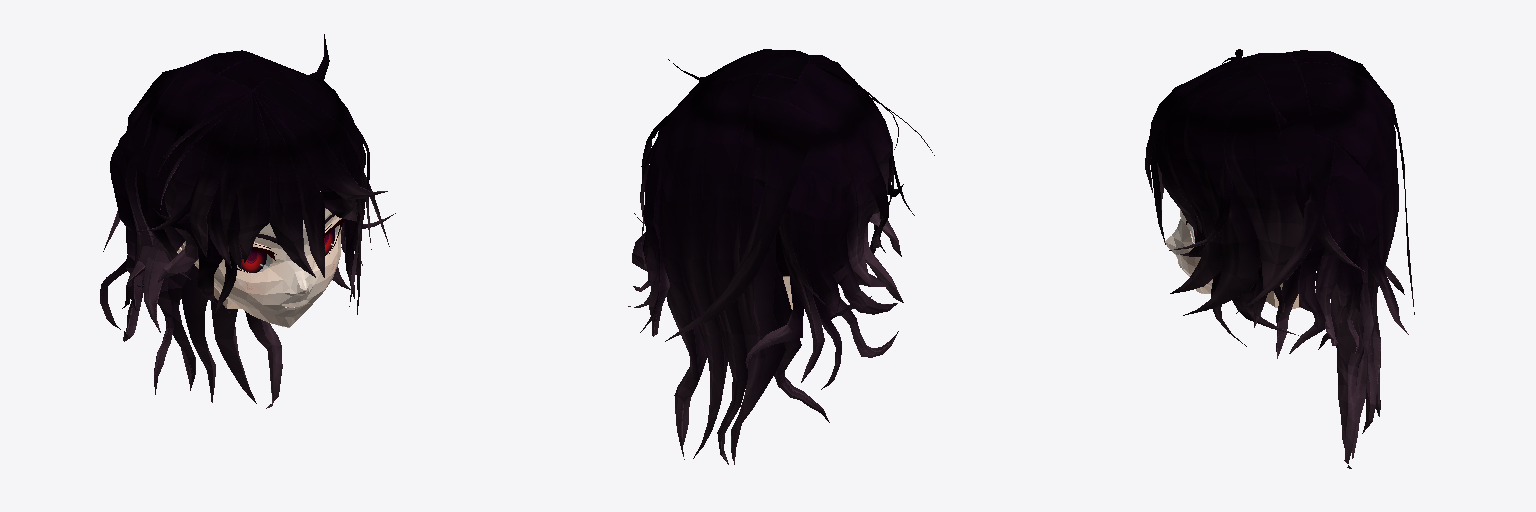
3 views of the same model, side by side, from view 1: azimuth 30°, elevation 25°; view 2: azimuth 150°, elevation 25°; view 3: azimuth 270°, elevation 25° (orthographic).
Size of the model in its own units: 0.3725 by 0.4903 by 0.3144.
Materials: 13 (4 with a texture image).